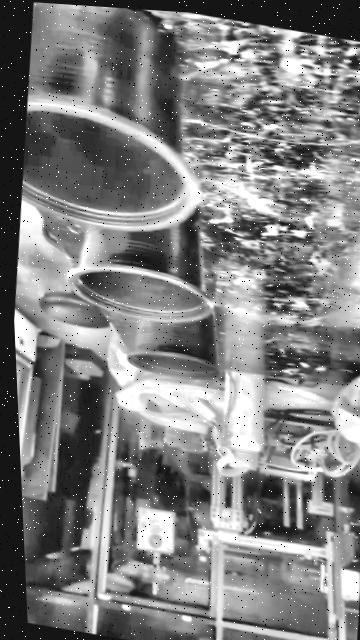pot: (10, 1, 208, 240), (68, 208, 211, 320), (128, 314, 220, 379)
